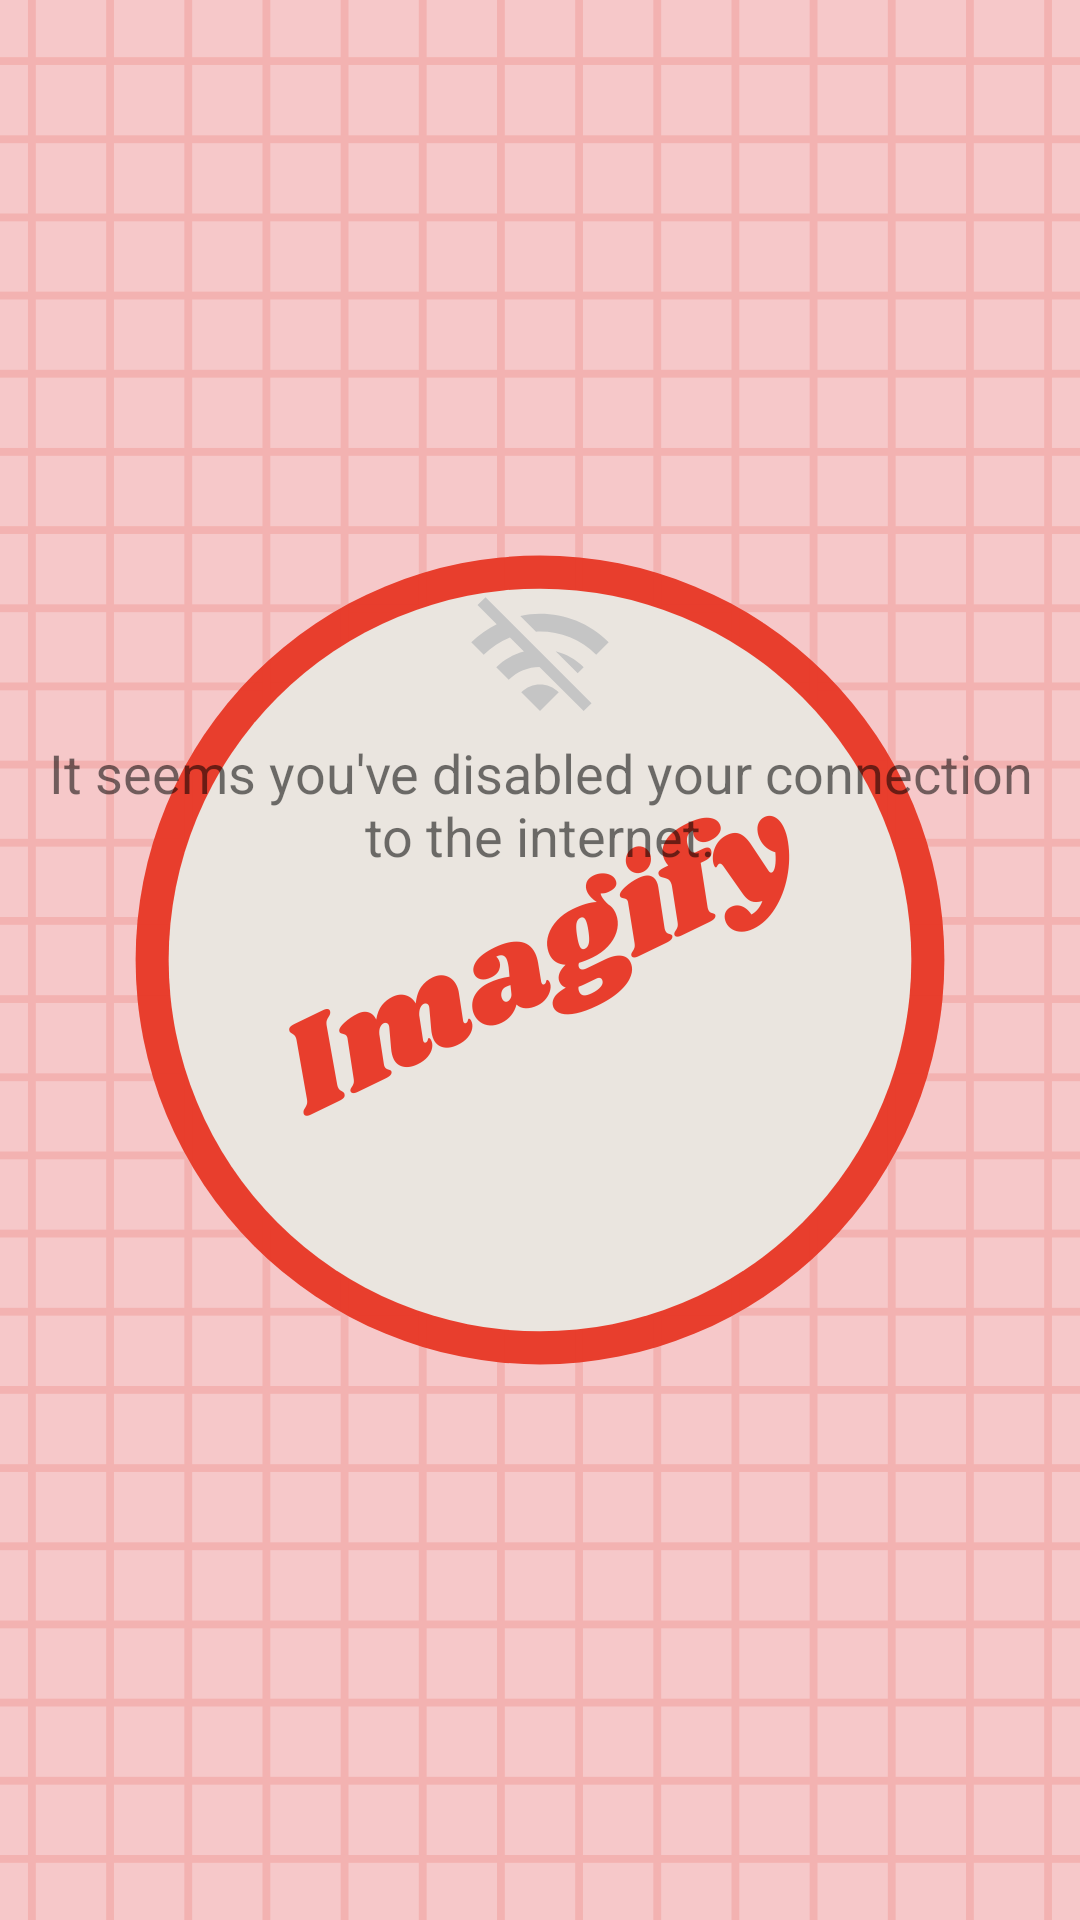

Icons on this 1080px x 1920px Android screen, each with the point to tap as [x,y]:
no connection: [540,654]
